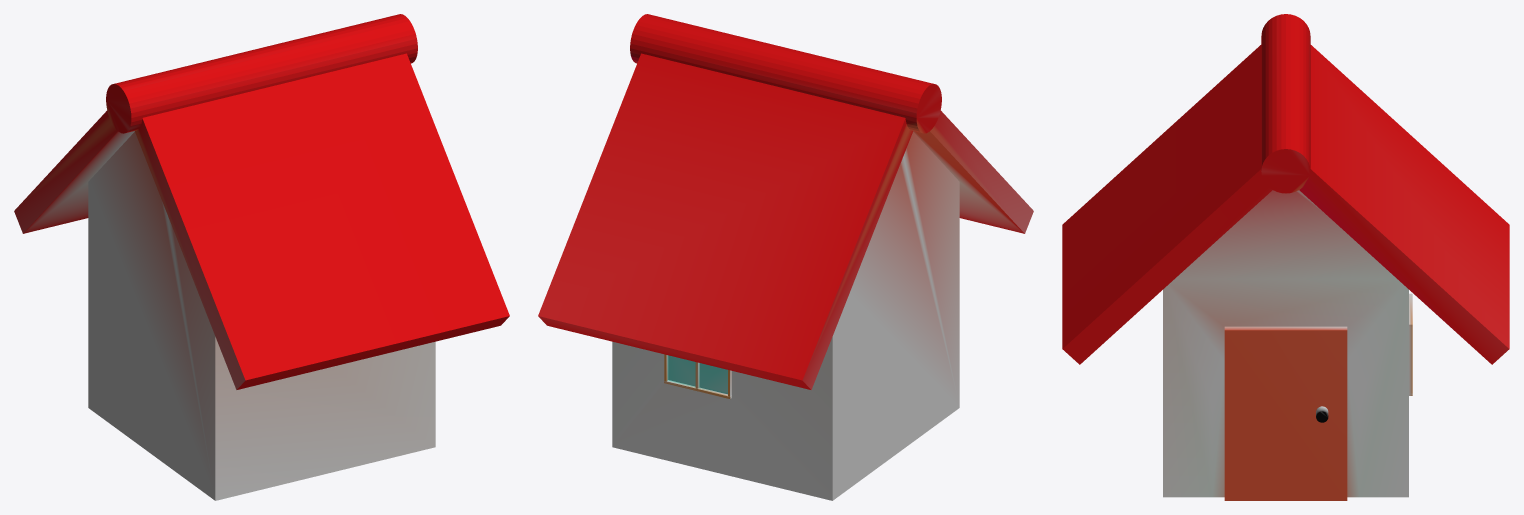
The model's file is home.fbx.
The picture shows the model from 3 angles, left to right: view 1: azimuth 30°, elevation 25°; view 2: azimuth 150°, elevation 25°; view 3: azimuth 270°, elevation 25°; orthographic projection. The views are drawn at different scales.
Parts seen in each view (by area): view 1: Cube; view 2: Cube; view 3: Cube.
Boxes of the visible parts, bbox=[...] form: Cube: bbox=[14, 14, 509, 500]; Cube: bbox=[538, 14, 1033, 500]; Cube: bbox=[1062, 14, 1509, 500].
Size of the model in its own units: 260 by 327 by 364.
